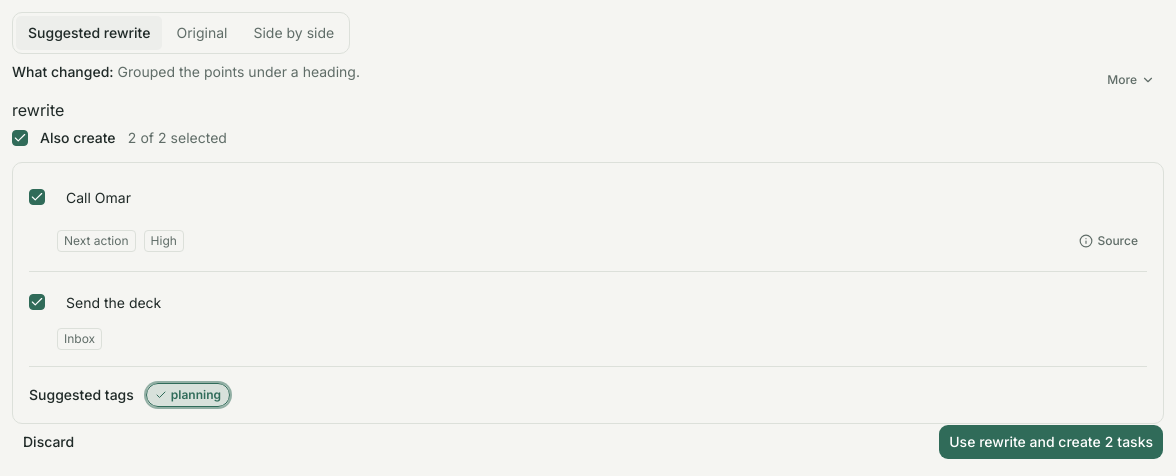
Test case: review surface › NOTES-B18 the header switches the view, stays silent while the proposal can be kept, and opens the summary on More
What coordinates should you click on to do the following:
click the button "Original"
I would click on:
 (202, 33)
Its box is top-left (164, 15), bottom-right (240, 51).
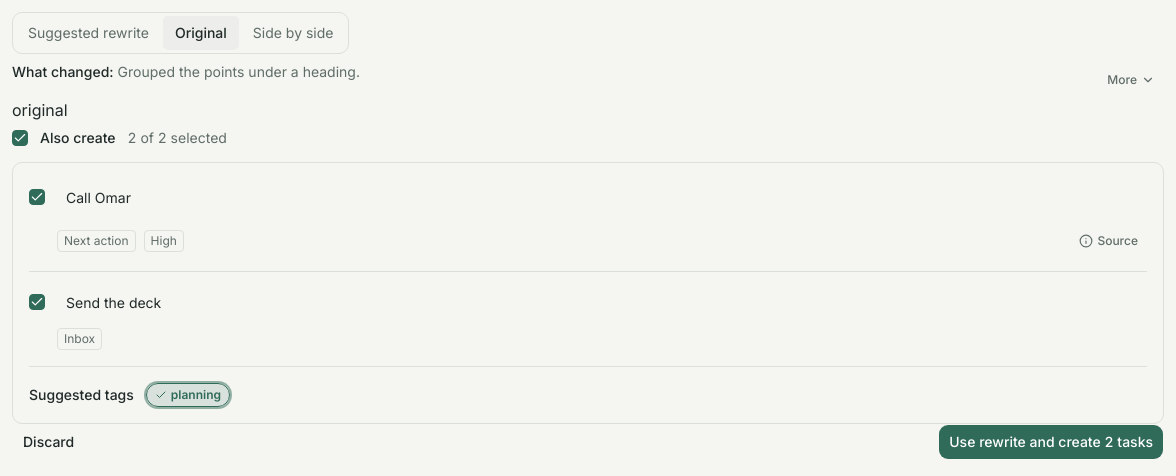
Result: the text "original" is shown at top-left (12, 100), bottom-right (68, 120)
What coordinates should you click on to do the following:
click the button "More"
I would click on:
 (1131, 80)
Its box is top-left (1098, 62), bottom-right (1164, 98).
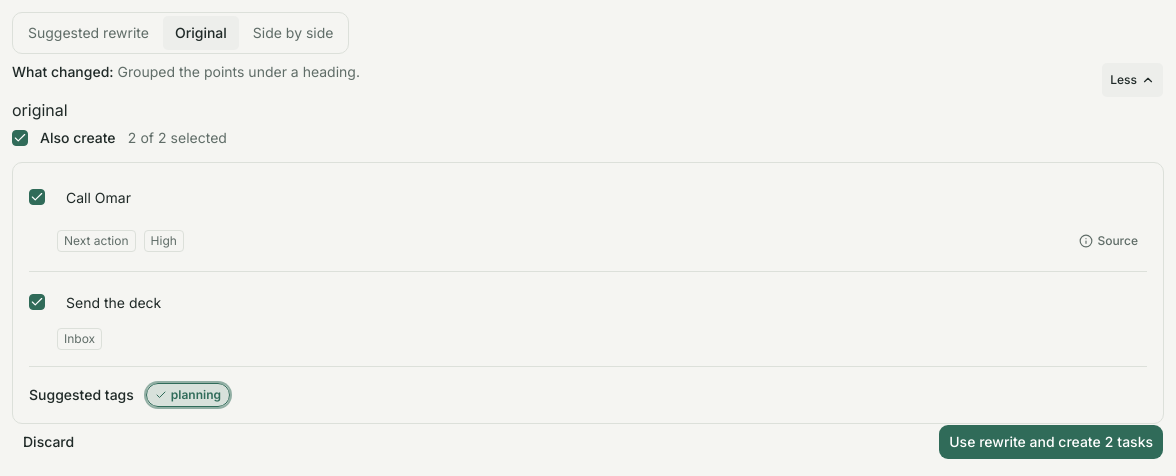
Result: the button "Less" is expanded at top-left (1101, 62), bottom-right (1164, 98)
